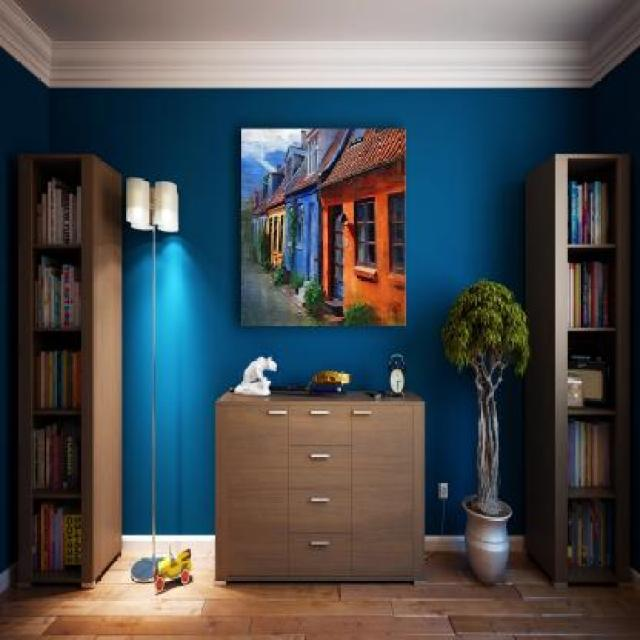floor: (0, 551, 640, 635)
